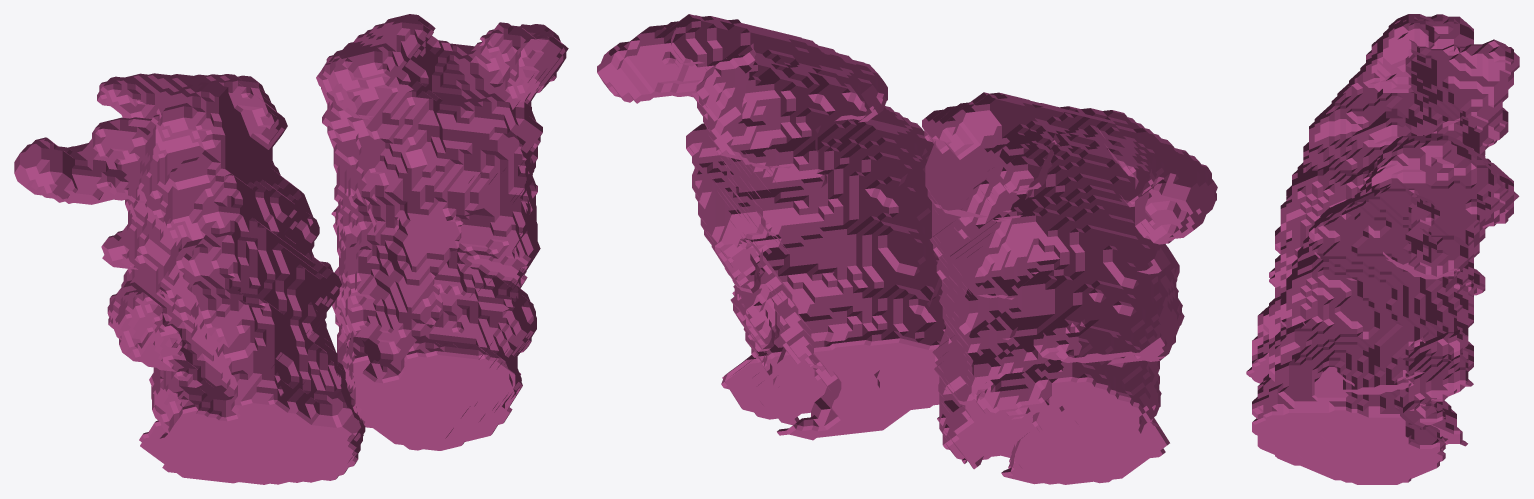
File: region_0138_SRF__superior_reticular_formation_.glb
3 views of the same model, side by side, from view 1: azimuth 30°, elevation 25°; view 2: azimuth 150°, elevation 25°; view 3: azimuth 270°, elevation 25° (orthographic). The views are drawn at different scales.
Parts seen in each view (by area): view 1: world; view 2: world; view 3: world.
Part boxes in pixels (x1,y1,x2,y2): world: [14, 14, 568, 484]; world: [597, 14, 1217, 484]; world: [1246, 14, 1519, 484].
Bounding box in the file's own units: 0.8 × 0.456 × 0.384.
